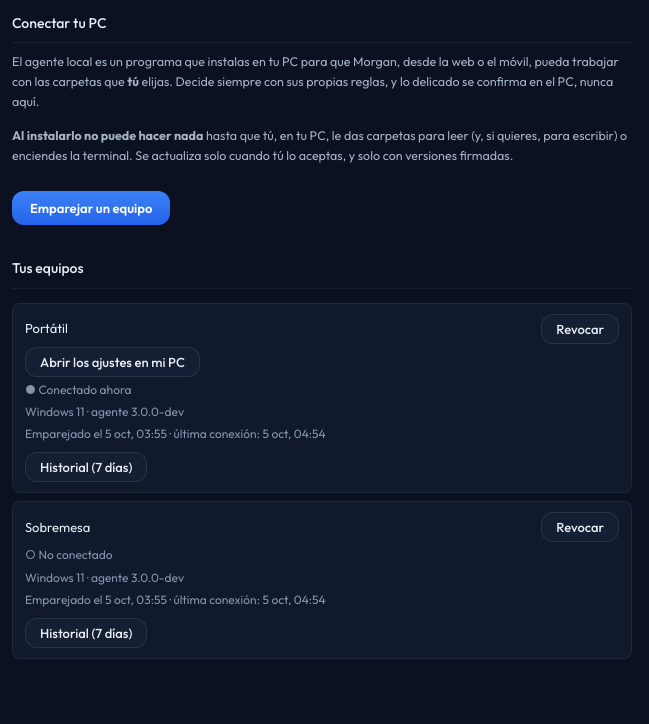
Test: Tu equipo › abre los ajustes en el PC conectado, y solo en él (4.17)
Expected: the text "Sobremesa" is shown, [25,517,90,538]
Click the button with aria-label "Abrir los ajustes en Portátil".
click(112, 362)  # box [25,347,200,377]
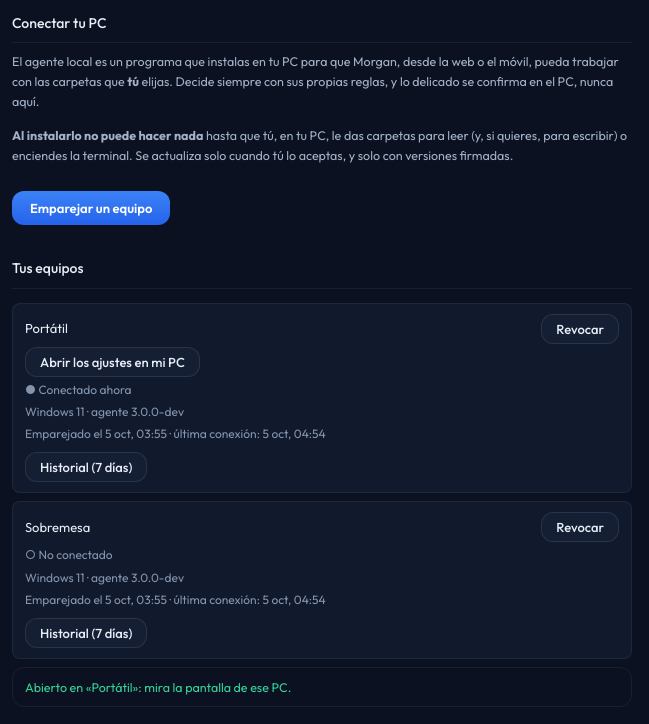
Expected: the text "Abierto en «Portátil»: mira la pantalla de ese PC." is shown, [12,667,632,707]
